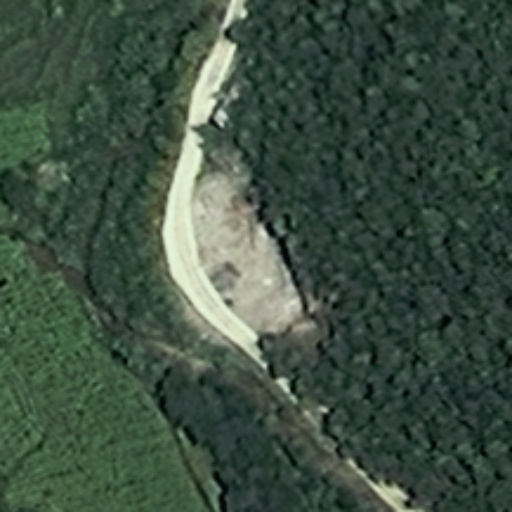landslide: (190, 169, 303, 335)
